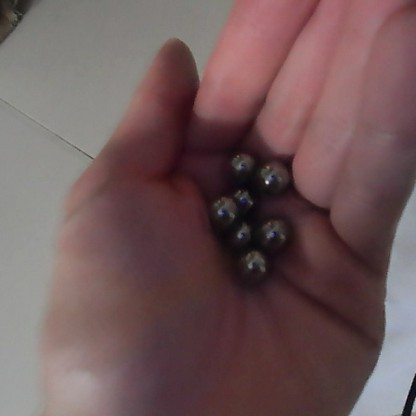ironball: (231, 248, 275, 284), (201, 194, 240, 230), (251, 215, 288, 250), (227, 148, 262, 184), (254, 157, 292, 189), (228, 186, 256, 221), (218, 222, 252, 249)
